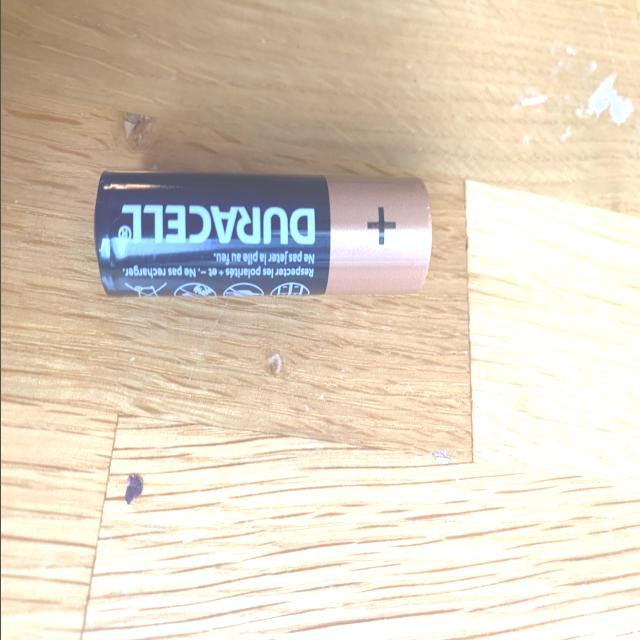AA: (88, 167, 435, 302)
